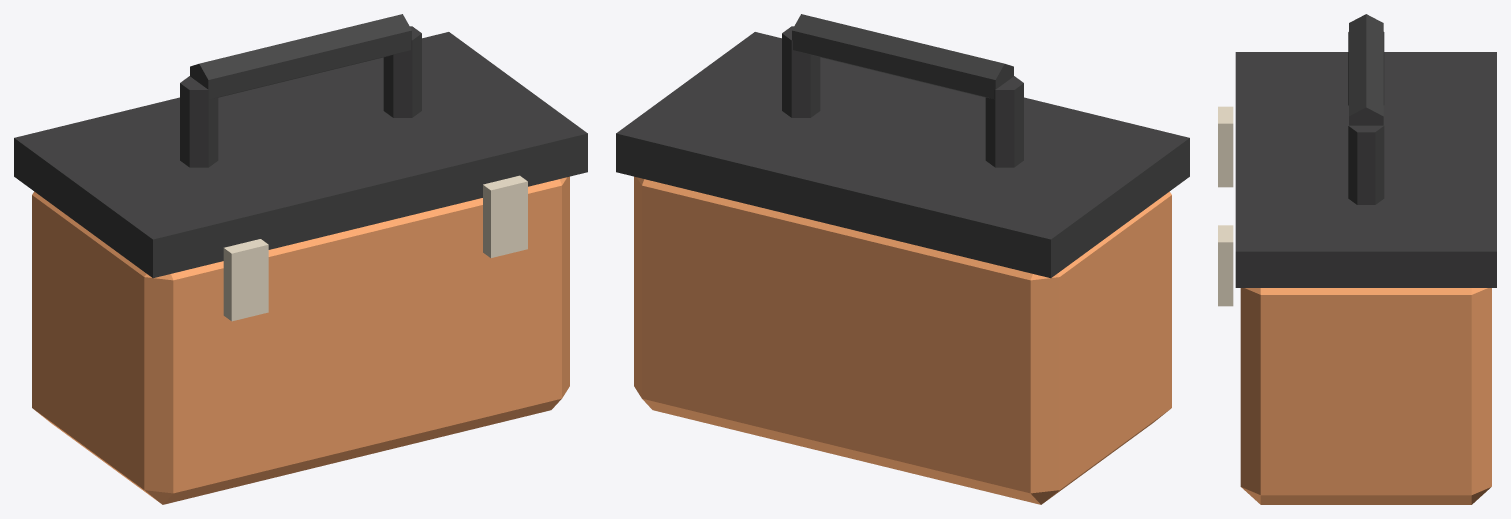
The picture shows the model from 3 angles, left to right: view 1: azimuth 30°, elevation 25°; view 2: azimuth 150°, elevation 25°; view 3: azimuth 270°, elevation 25°; orthographic projection. The views are drawn at different scales.
Visible parts, largest first — view 1: Box, Lid, Handle, Latch, Latch.001, Handle riser, Handle riser.001; view 2: Box, Lid, Handle, Handle riser, Handle riser.001; view 3: Lid, Box, Handle, Handle riser.001, Latch.001, Latch.
Part boxes in pixels (<box>): Box: <box>32,176,569,504</box>; Lid: <box>14,32,587,278</box>; Handle: <box>190,14,411,98</box>; Latch: <box>223,239,268,321</box>; Latch.001: <box>483,175,527,257</box>; Handle riser: <box>180,76,218,167</box>; Handle riser.001: <box>383,26,421,117</box>; Box: <box>634,176,1171,504</box>; Lid: <box>616,32,1189,278</box>; Handle: <box>792,14,1013,98</box>; Handle riser: <box>985,76,1023,167</box>; Handle riser.001: <box>782,26,820,117</box>; Lid: <box>1235,52,1496,287</box>; Box: <box>1240,288,1491,504</box>; Handle: <box>1349,14,1383,125</box>; Handle riser.001: <box>1348,125,1384,204</box>; Latch.001: <box>1218,225,1233,306</box>; Latch: <box>1218,106,1233,187</box>.
Bounding box in the file's own units: 47 × 39 × 27.75.
